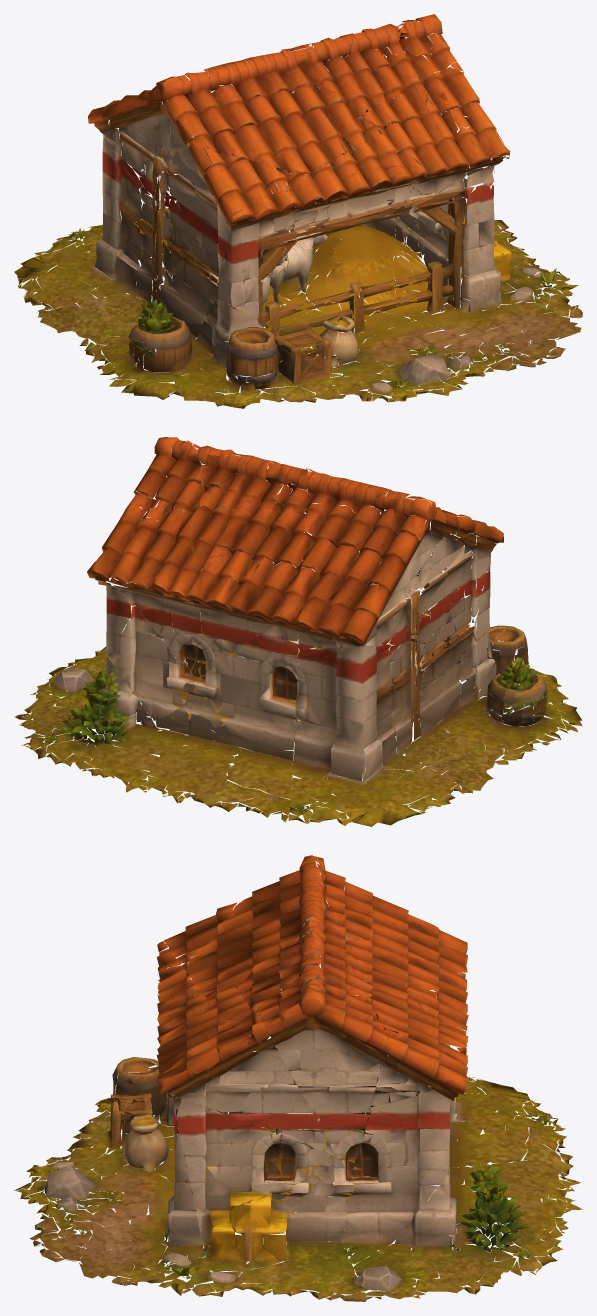
Rendered from bergerie_t3.glb.
3 views of the same model, one above another, from view 1: azimuth 30°, elevation 25°; view 2: azimuth 150°, elevation 25°; view 3: azimuth 270°, elevation 25° (orthographic). The views are drawn at different scales.
Visible parts, largest first — view 1: bergerie_t3; view 2: bergerie_t3; view 3: bergerie_t3.
Boxes of the visible parts, <box> form: bergerie_t3: <box>14,14,582,408</box>; bergerie_t3: <box>14,437,582,826</box>; bergerie_t3: <box>14,855,582,1301</box>.
Size of the model in its own units: 0.9975 by 0.5152 by 0.9967.
Materials: 1 (1 with a texture image).
